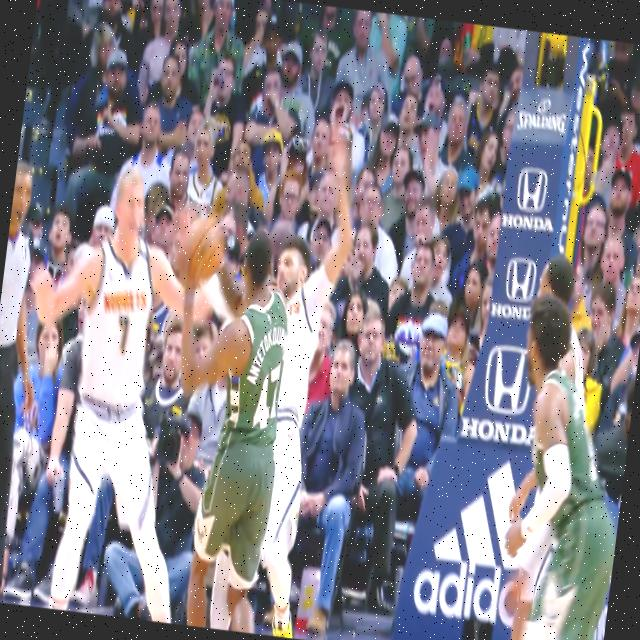Foul: (186, 228, 332, 598)
